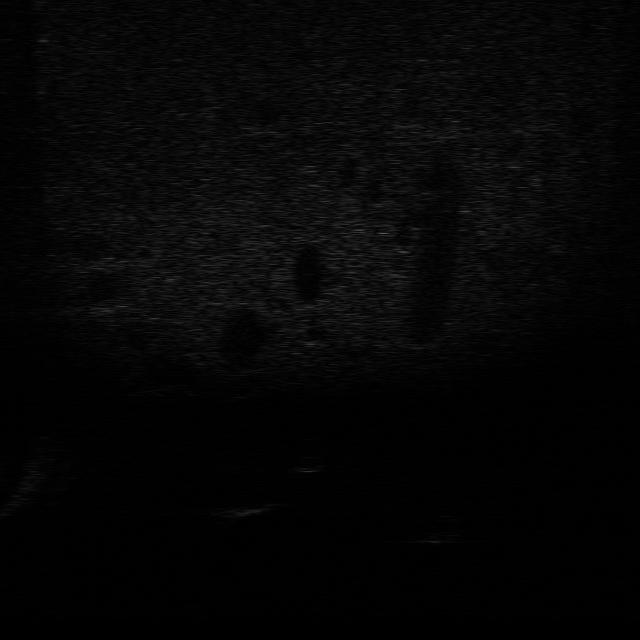ball: (282, 448, 330, 478)
square cage: (205, 495, 275, 527)
tyre: (407, 508, 475, 550)
